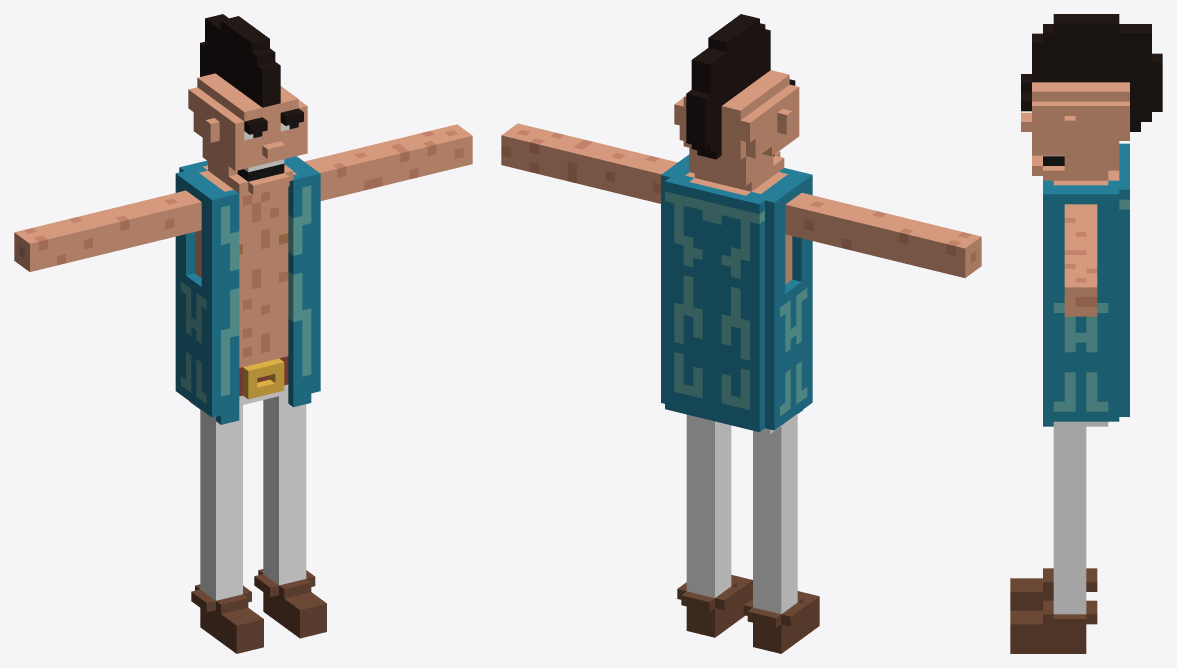
File: Testy2.obj
3 renders of one model, left to right at view 1: azimuth 30°, elevation 25°; view 2: azimuth 150°, elevation 25°; view 3: azimuth 270°, elevation 25°, orthographic. The views are drawn at different scales.
Size of the model in its own units: 4.9 by 6.2 by 1.4.
